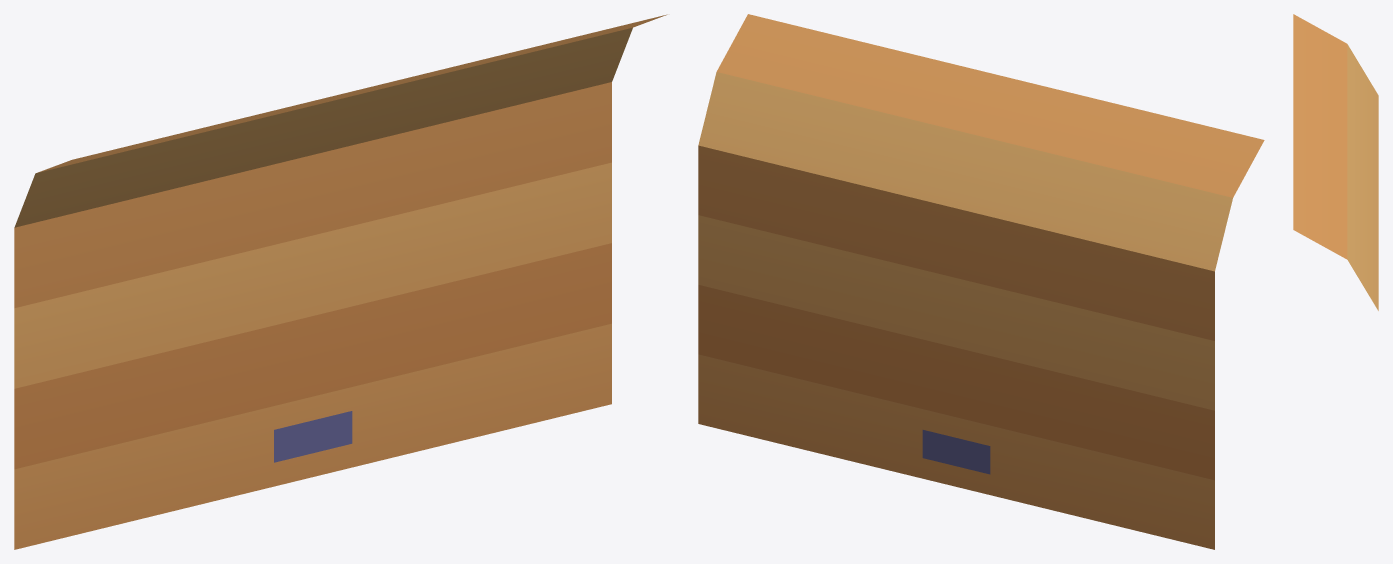
Rendered from door-wide-half.glb.
3 views of the same model, side by side, from view 1: azimuth 30°, elevation 25°; view 2: azimuth 150°, elevation 25°; view 3: azimuth 270°, elevation 25° (orthographic). The views are drawn at different scales.
Visible parts, largest first — view 1: door-wide-half; view 2: door-wide-half; view 3: door-wide-half.
Boxes of the visible parts, left/top/right/bottom form: door-wide-half: left=14, top=14, right=667, bottom=549; door-wide-half: left=698, top=14, right=1264, bottom=549; door-wide-half: left=1293, top=14, right=1378, bottom=310.
Bounding box in the file's own units: 1.8 × 1.24 × 0.3.
Materials: 1 (1 with a texture image).
